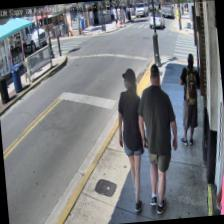person: (133, 62, 184, 214), (112, 67, 152, 212), (172, 53, 204, 146)
